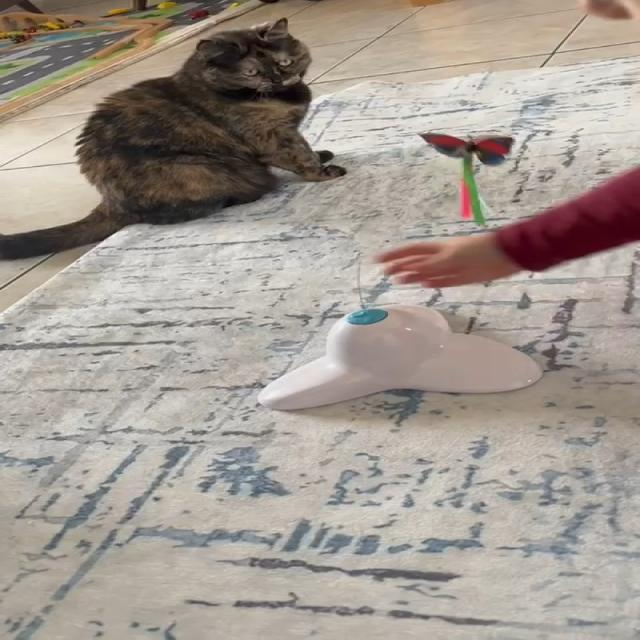authorized: (0, 17, 347, 260)
